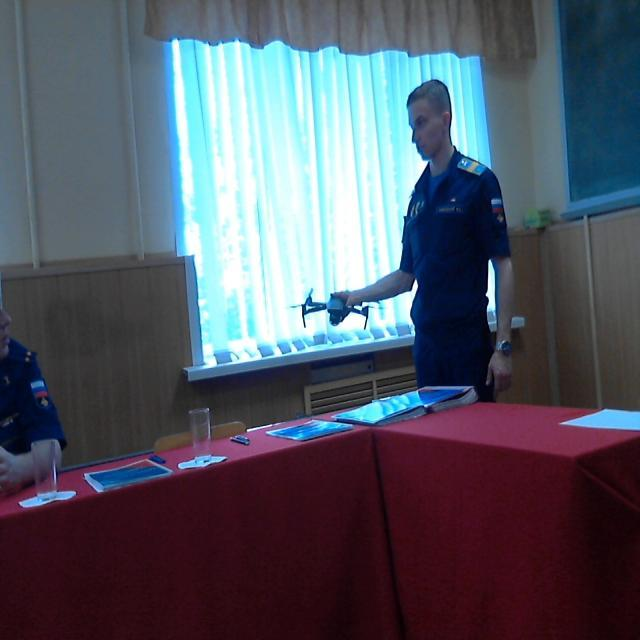drone: (284, 268, 379, 340)
